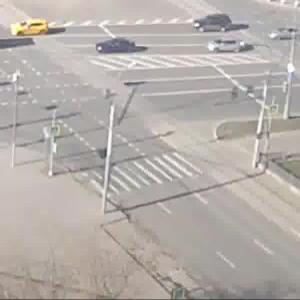car: (9, 16, 51, 41), (195, 13, 239, 35), (91, 36, 139, 56), (205, 40, 251, 56), (270, 27, 300, 40)
